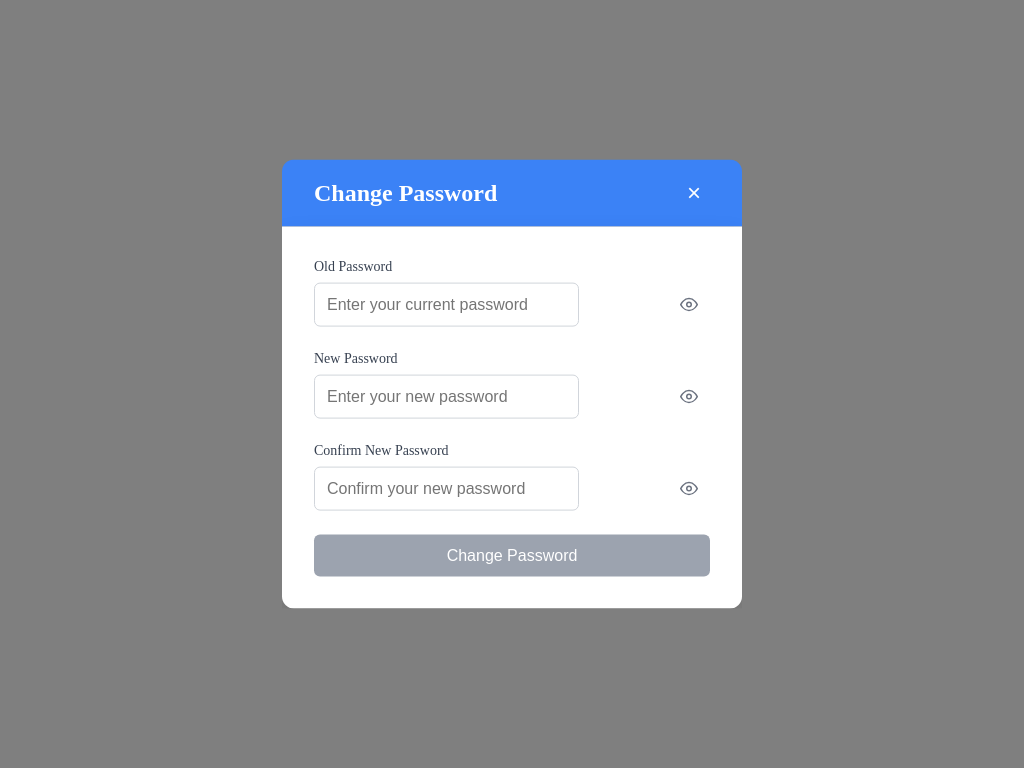
Test: ChangePassword modal › surfaces the normalized API error on failure
Type "OldPassw0rd!" into the password field labelled "Old Password" at (446, 304), box [314, 282, 579, 326]
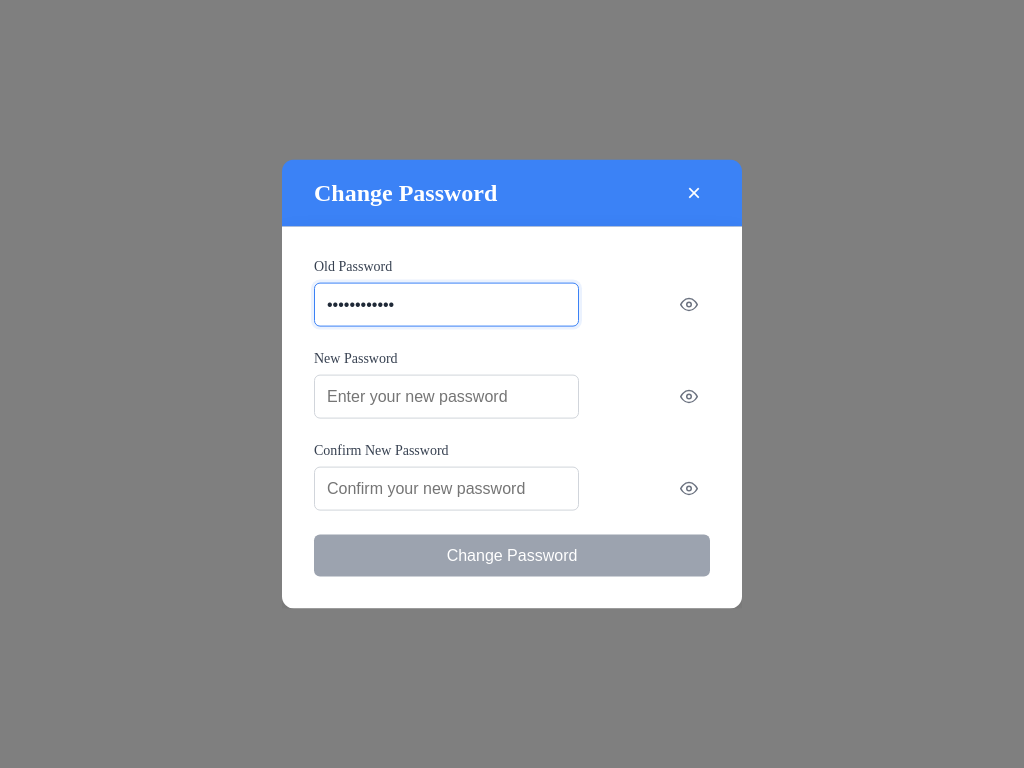
Type "NewPassw0rd!" into the password field labelled "New Password" at (446, 396), box [314, 374, 579, 418]
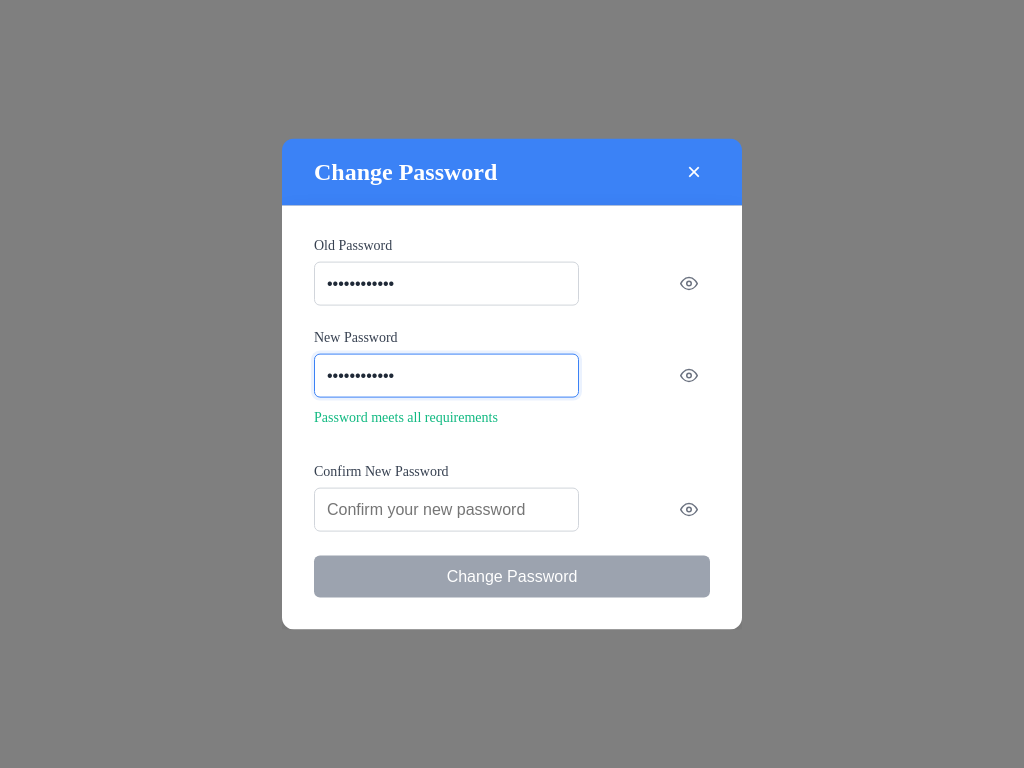
Type "NewPassw0rd!" into the password field labelled "Confirm New Password" at (446, 509), box [314, 487, 579, 531]
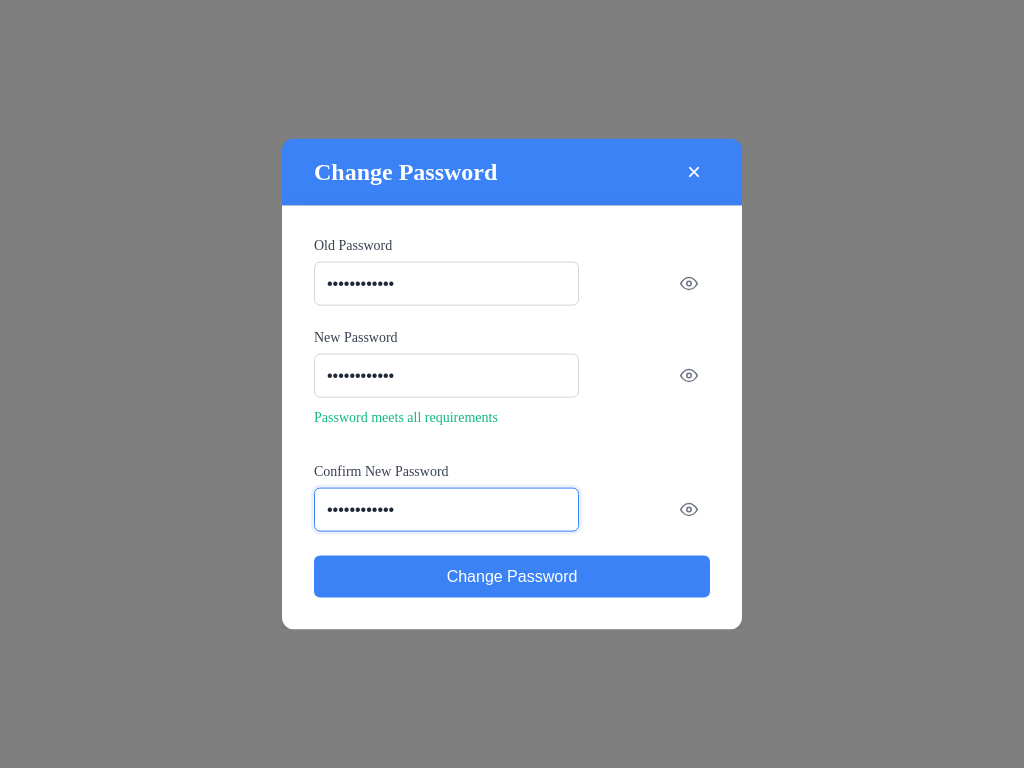
Click the button "Change Password" at (512, 576), box [314, 555, 710, 597]
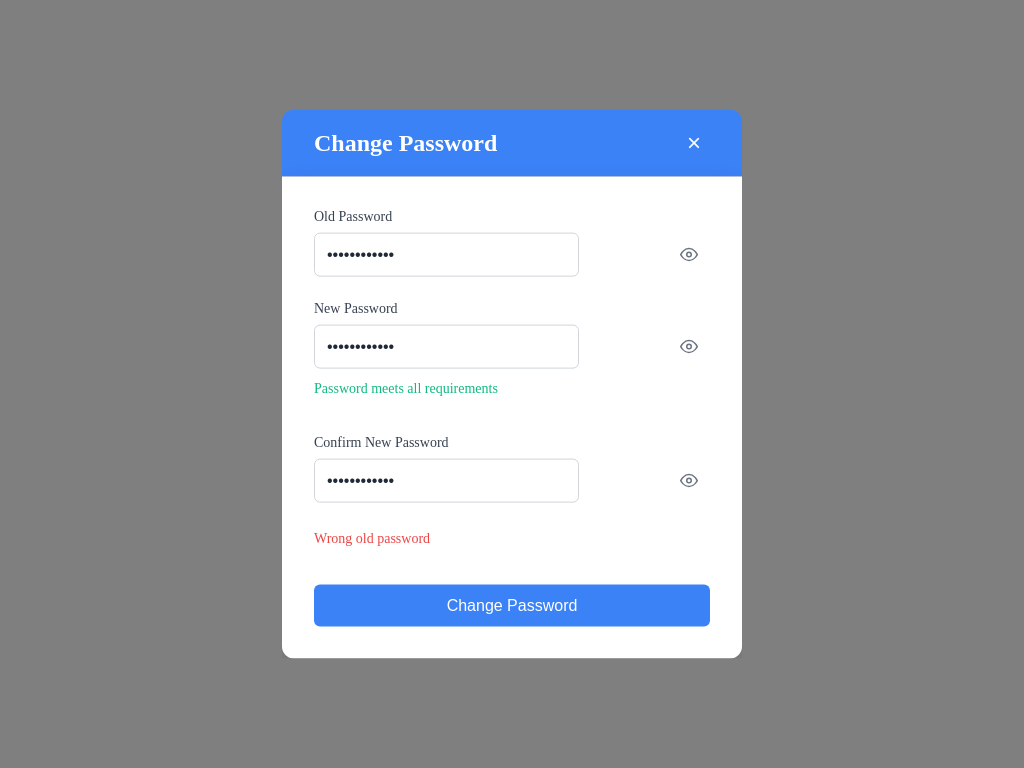
Result: the text "Wrong old password" is shown at [314, 530, 430, 545]
